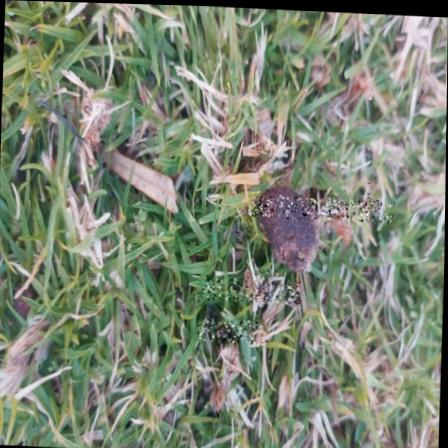dog-poop: (261, 189, 318, 261)
